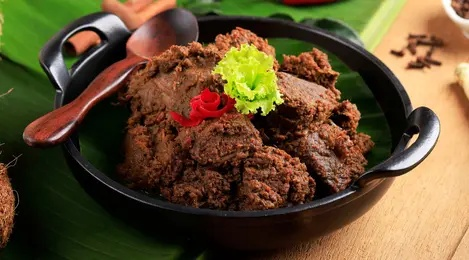rendang: (118, 27, 367, 210)
